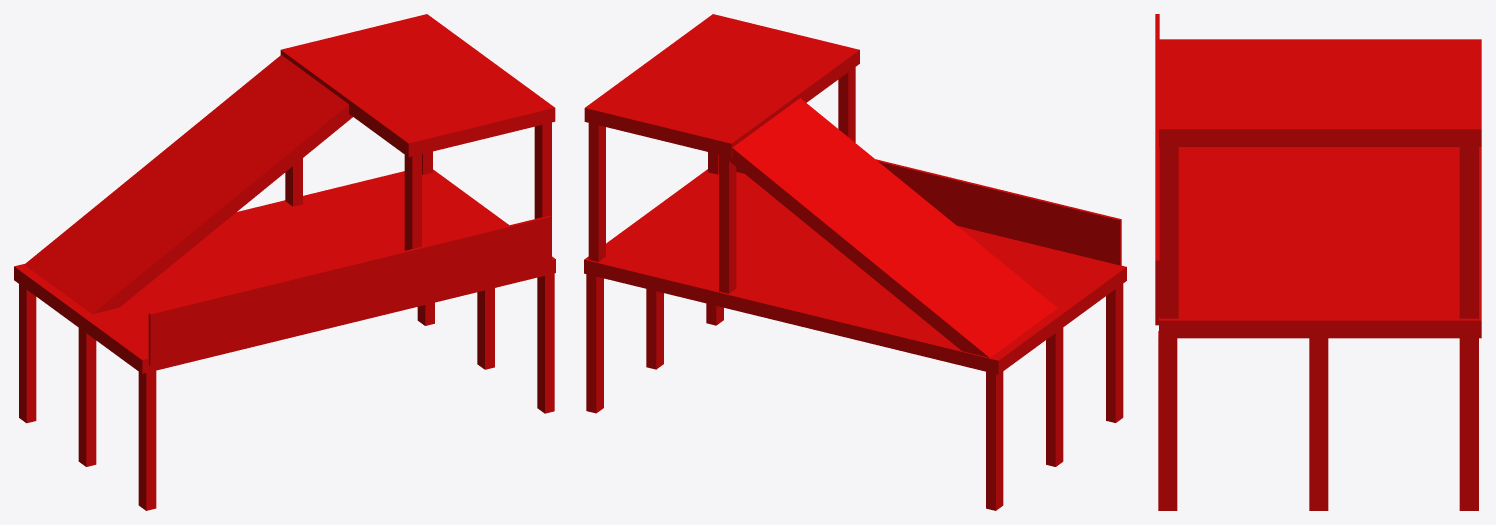
The model's file is SM_Bld_IndustrialWalkway_Preset_Large_02_Collision.fbx.
3 views of the same model, side by side, from view 1: azimuth 30°, elevation 25°; view 2: azimuth 150°, elevation 25°; view 3: azimuth 270°, elevation 25° (orthographic). The views are drawn at different scales.
Visible parts, largest first — view 1: SM_Bld_IndustrialWalkway_Preset_Large_02_Collision; view 2: SM_Bld_IndustrialWalkway_Preset_Large_02_Collision; view 3: SM_Bld_IndustrialWalkway_Preset_Large_02_Collision.
Boxes of the visible parts, box(x1,y1,x2,y2) form: SM_Bld_IndustrialWalkway_Preset_Large_02_Collision: box(14, 14, 555, 510); SM_Bld_IndustrialWalkway_Preset_Large_02_Collision: box(584, 14, 1126, 510); SM_Bld_IndustrialWalkway_Preset_Large_02_Collision: box(1155, 14, 1481, 510).
Size of the model in its own units: 888 by 622 by 481.
